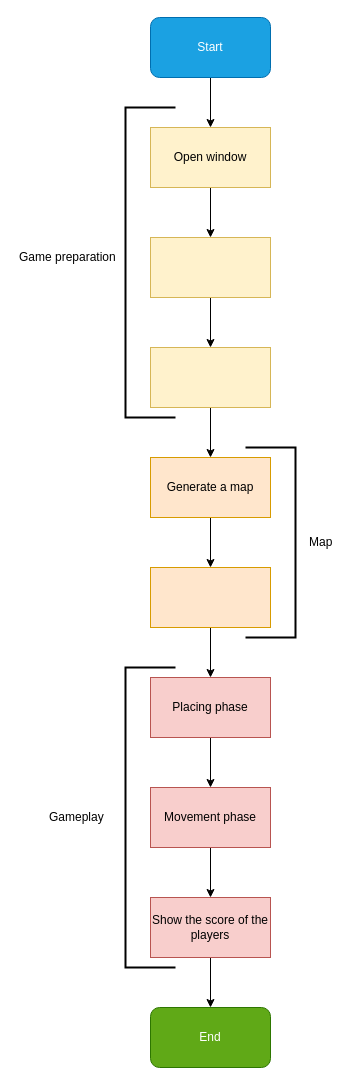
Image size: 364x1085. Some labels were removed from this diagram. Each missing label, with the centre of its shape:
"Display a map" goes at (x=210, y=597).
"Show game menu" goes at (x=210, y=267).
"Wait for player's decision" goes at (x=210, y=377).
